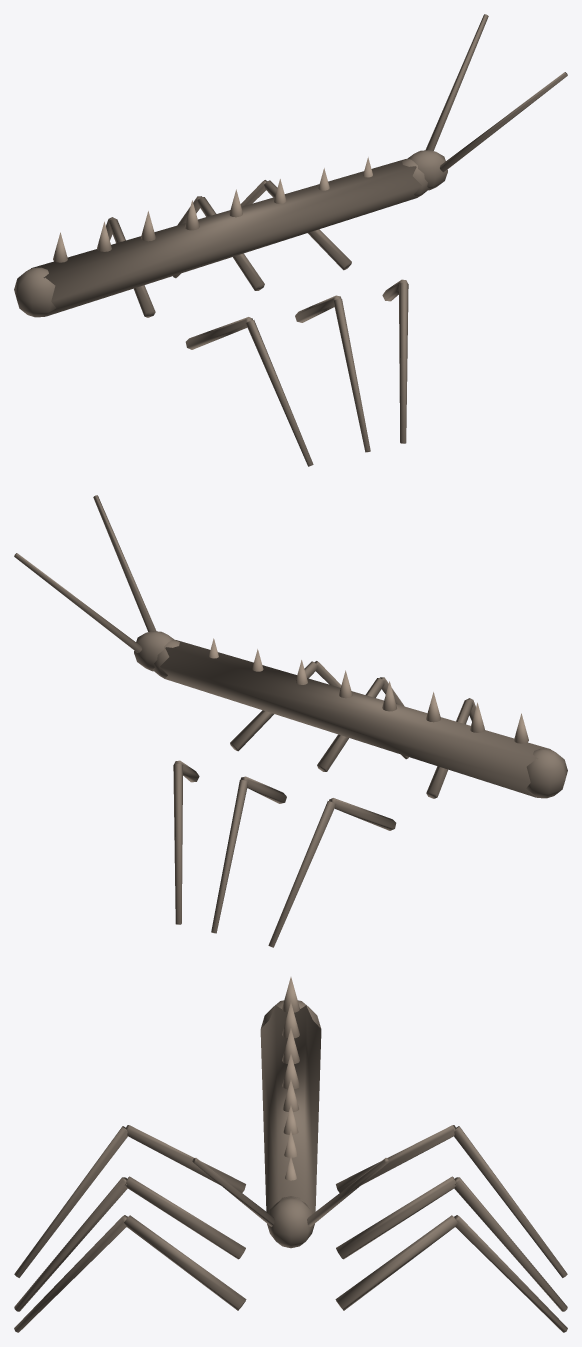
Rendered from giant-spiny-stick-insect.glb.
3 views of the same model, one above another, from view 1: azimuth 30°, elevation 25°; view 2: azimuth 150°, elevation 25°; view 3: azimuth 270°, elevation 25° (orthographic). The views are drawn at different scales.
Parts seen in each view (by area): view 1: cone; view 2: cone; view 3: cone.
Part boxes in pixels (x1,y1,x2,y2): cone: [14, 14, 567, 466]; cone: [14, 495, 567, 947]; cone: [14, 977, 567, 1332].
Bounding box in the file's own units: 0.5236 × 0.2548 × 0.4095.
